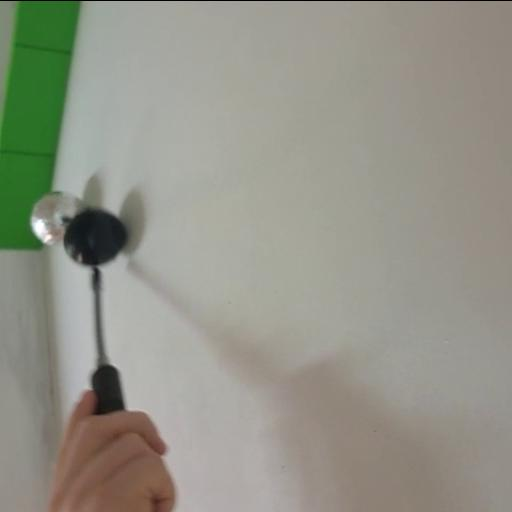alive: (30, 191, 88, 245)
dead: (63, 208, 127, 266)
